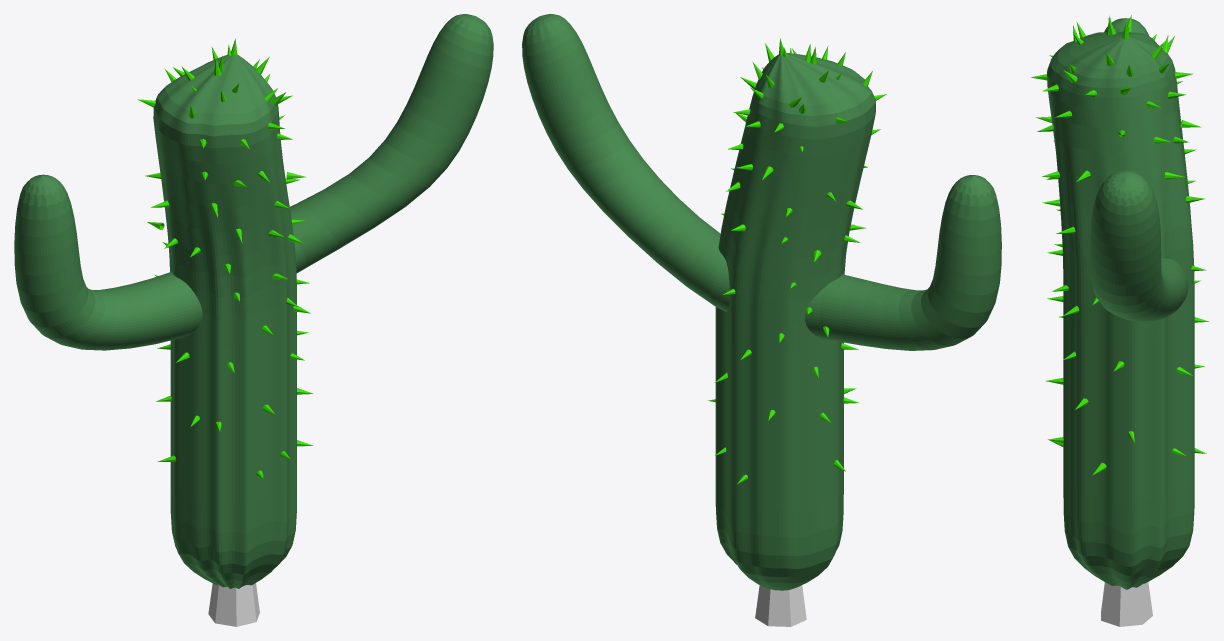
Rendered from cactus.glb.
3 renders of one model, left to right at view 1: azimuth 30°, elevation 25°; view 2: azimuth 150°, elevation 25°; view 3: azimuth 270°, elevation 25°, orthographic. The views are drawn at different scales.
Parts seen in each view (by area): view 1: Cylinder, Cylinder.001, Cone; view 2: Cylinder, Cylinder.001, Cone; view 3: Cylinder, Cylinder.001, Cone.
Part boxes in pixels (left/top/right/bottom): Cylinder: left=153, top=54, right=296, bottom=588; Cylinder.001: left=14, top=14, right=493, bottom=350; Cone: left=208, top=583, right=259, bottom=626; Cylinder: left=715, top=53, right=875, bottom=590; Cylinder.001: left=522, top=14, right=1001, bottom=350; Cone: left=755, top=585, right=806, bottom=626; Cylinder: left=1047, top=31, right=1194, bottom=589; Cylinder.001: left=1090, top=18, right=1188, bottom=321; Cone: left=1101, top=582, right=1152, bottom=626.
Size of the model in its own units: 8.6 by 10.08 by 2.76.
